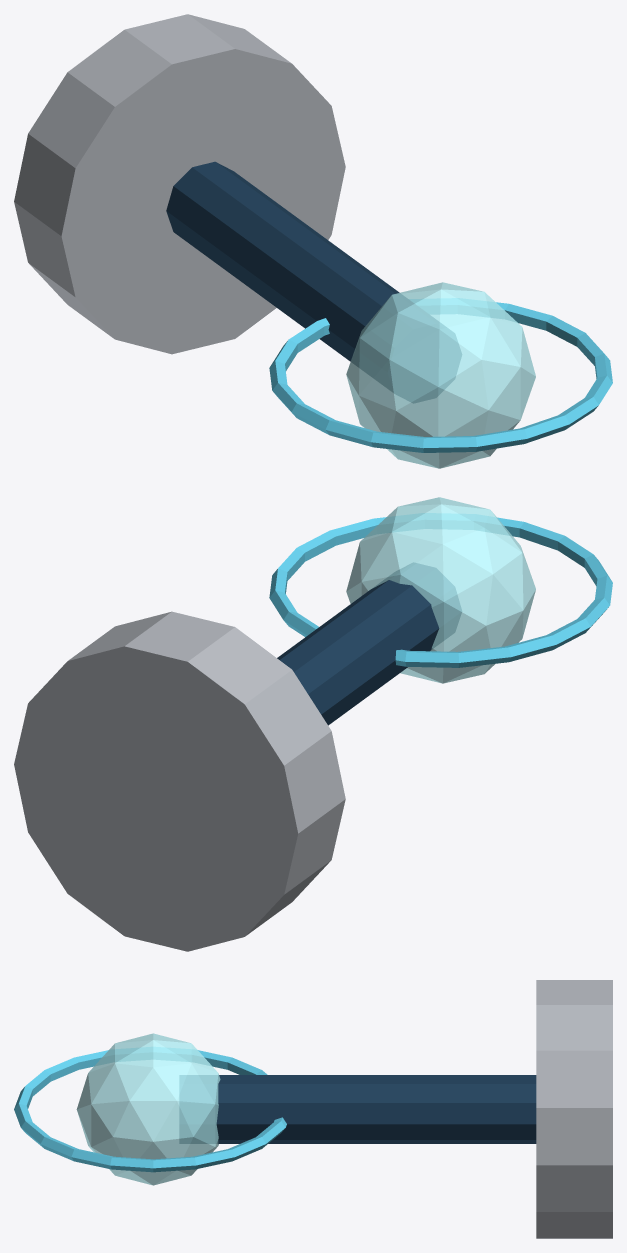
File: 03_world_landmark_light.glb
The picture shows the model from 3 angles, top to bottom: view 1: azimuth 30°, elevation 25°; view 2: azimuth 150°, elevation 25°; view 3: azimuth 270°, elevation 25°; orthographic projection. The views are drawn at different scales.
Parts seen in each view (by area): view 1: light_base, light_column, light_core, light_halo; view 2: light_base, light_core, light_column, light_halo; view 3: light_column, light_base, light_core, light_halo.
Boxes of the visible parts, x1,y1,x2,y2 form: light_base: (14, 14, 345, 354); light_column: (166, 161, 461, 402); light_core: (346, 282, 535, 468); light_halo: (269, 298, 612, 452); light_base: (14, 611, 345, 951); light_core: (346, 497, 535, 683); light_column: (277, 563, 461, 725); light_halo: (269, 513, 612, 667); light_column: (180, 1075, 536, 1143); light_base: (536, 980, 612, 1238); light_core: (76, 1033, 220, 1185); light_halo: (14, 1047, 286, 1172).
Bounding box in the file's own units: 0.8 × 0.7409 × 1.72.
